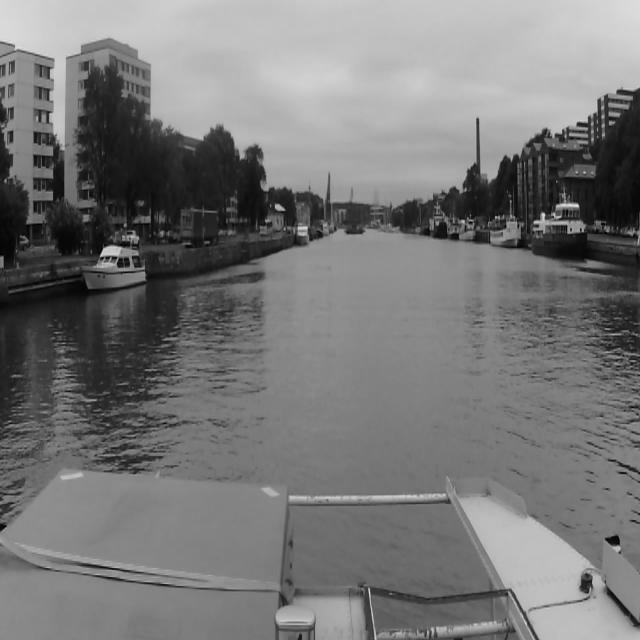ship: (78, 218, 148, 300), (533, 203, 589, 260), (488, 194, 520, 249), (345, 220, 367, 240), (296, 227, 310, 248)
